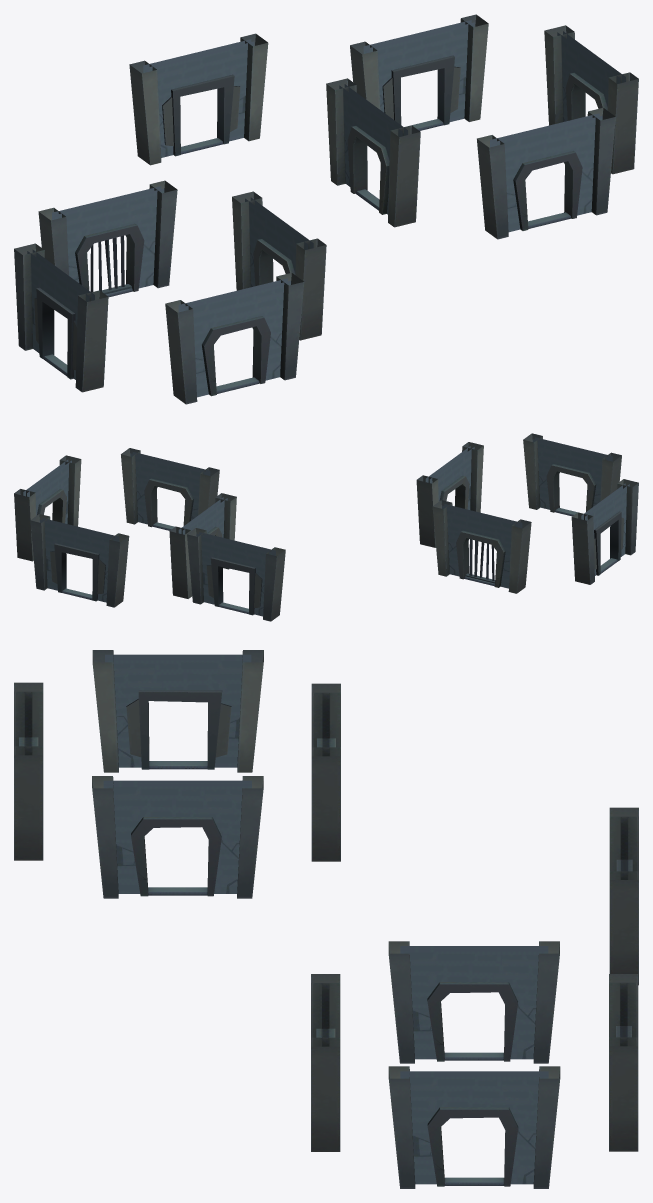
File: Combined_Mesh_root_scene__4_e0ea2853__zombies2_diffuse_03_64bb9bc2_c1f257.obj
3 views of the same model, one above another, from view 1: azimuth 30°, elevation 25°; view 2: azimuth 150°, elevation 25°; view 3: azimuth 270°, elevation 25° (orthographic). The views are drawn at different scales.
Bounding box in the file's own units: 61.98 × 11.22 × 42.18.
Materials: 10 (10 with a texture image).
